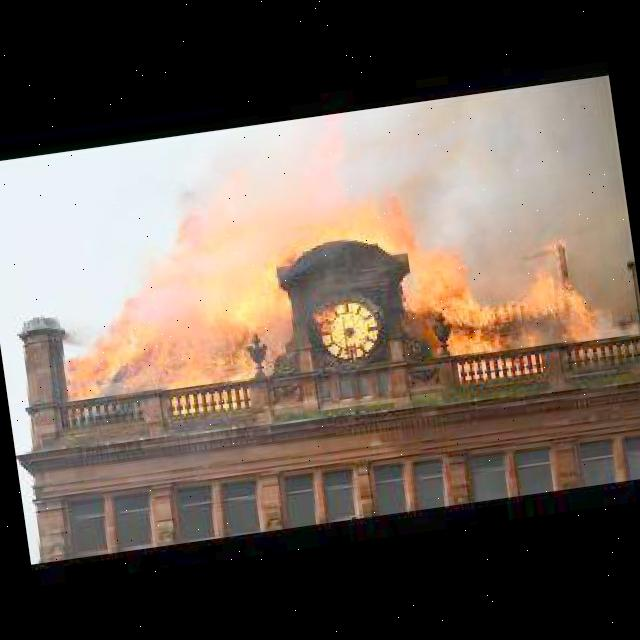fire: (44, 116, 610, 419)
